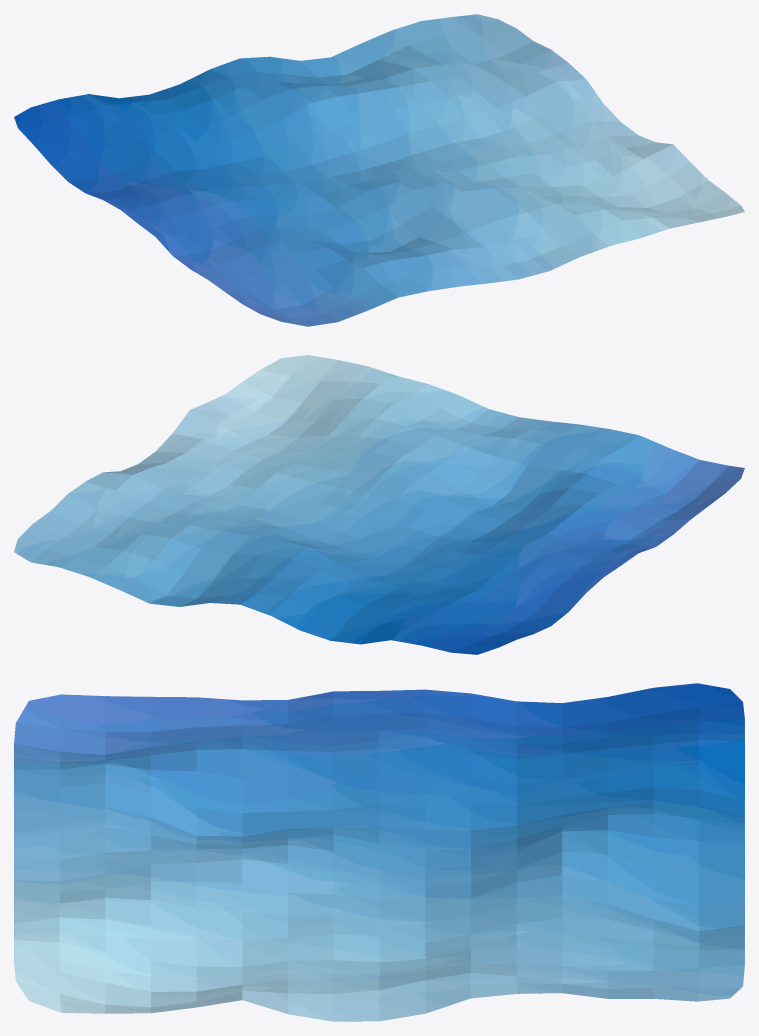
The model's file is water.obj.
3 renders of one model, top to bottom at view 1: azimuth 30°, elevation 25°; view 2: azimuth 150°, elevation 25°; view 3: azimuth 270°, elevation 25°, orthographic. The views are drawn at different scales.
Visible parts, largest first — view 1: Water; view 2: Water; view 3: Water.
Part boxes in pixels (box(x1,y1,x2,y2)): Water: box(14, 14, 744, 326); Water: box(14, 355, 744, 654); Water: box(14, 683, 744, 1021).
Bounding box in the file's own units: 9.64 × 0.6772 × 9.64.
